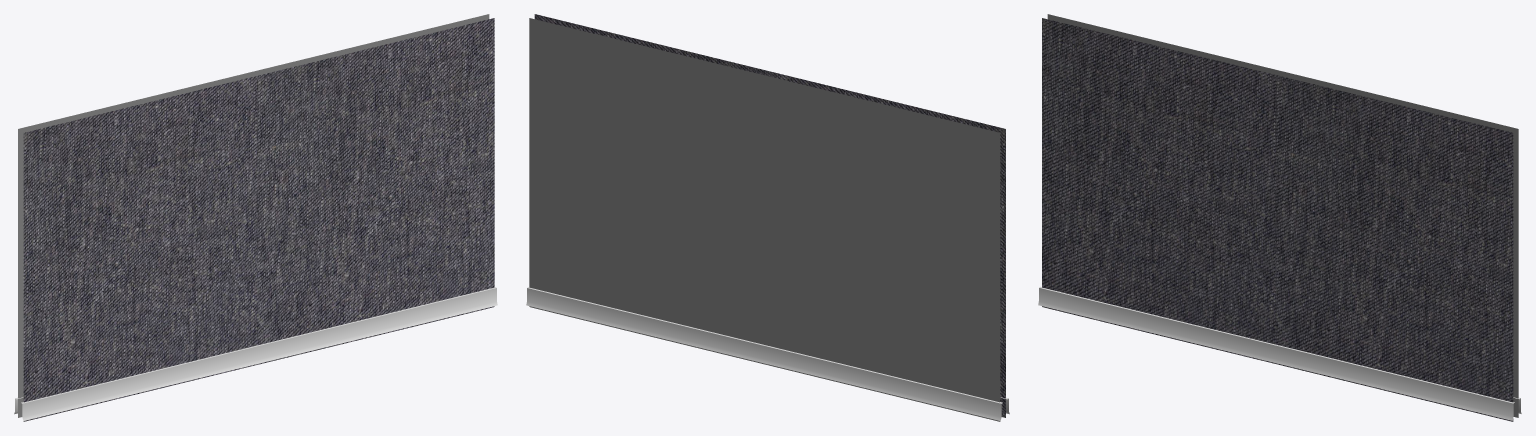
File: FLAT_wall_08.FBX
The picture shows the model from 3 angles, left to right: view 1: azimuth 30°, elevation 25°; view 2: azimuth 150°, elevation 25°; view 3: azimuth 330°, elevation 25°; orthographic projection.
Visible parts, largest first — view 1: FLAT_wall_08, FLAT_wall_08_plinthe01; view 2: FLAT_wall_08, FLAT_wall_08_plinthe01; view 3: FLAT_wall_08, FLAT_wall_08_plinthe01.
Boxes of the visible parts, x1,y1,x2,y2 form: FLAT_wall_08: [18, 14, 494, 421]; FLAT_wall_08_plinthe01: [14, 287, 497, 420]; FLAT_wall_08: [529, 14, 1005, 421]; FLAT_wall_08_plinthe01: [526, 287, 1009, 420]; FLAT_wall_08: [1042, 14, 1518, 421]; FLAT_wall_08_plinthe01: [1038, 286, 1521, 420].
Bounding box in the file's own units: 7.23 × 4.21 × 0.244.
2 materials, 1 textured.
